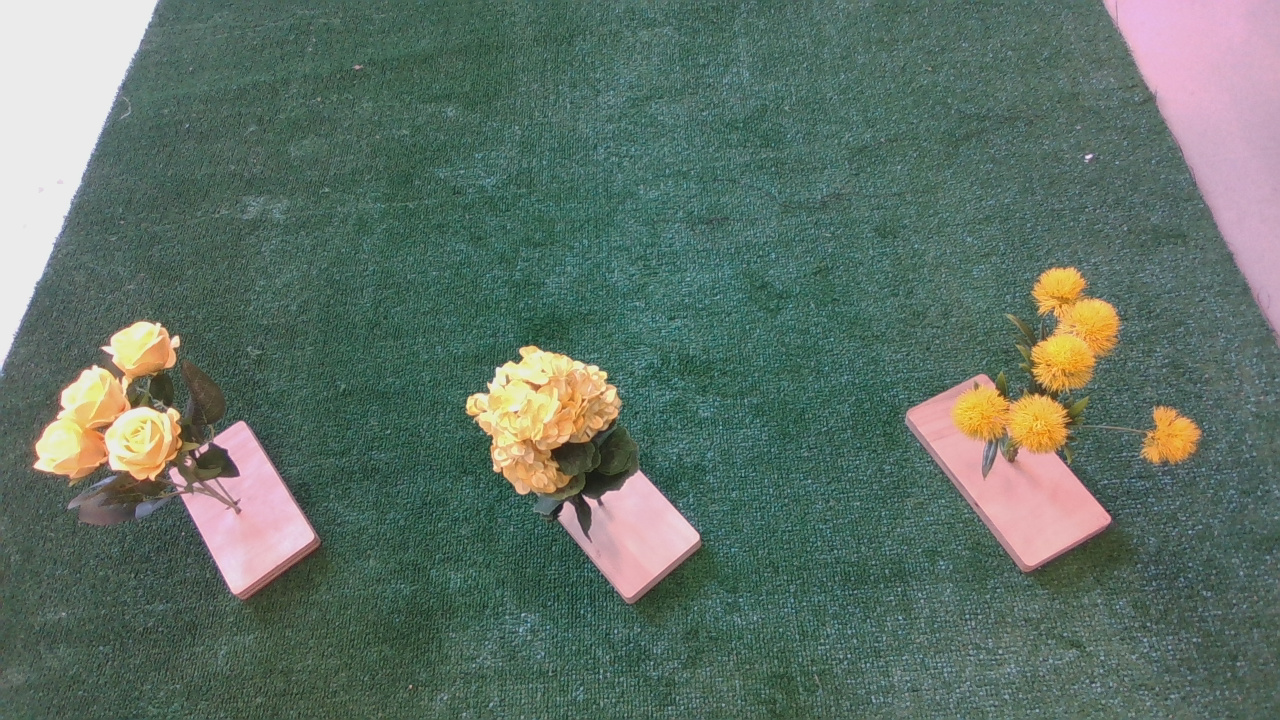dandelion: (931, 260, 1211, 482)
geranium: (463, 342, 650, 533)
rose: (36, 316, 249, 532)
